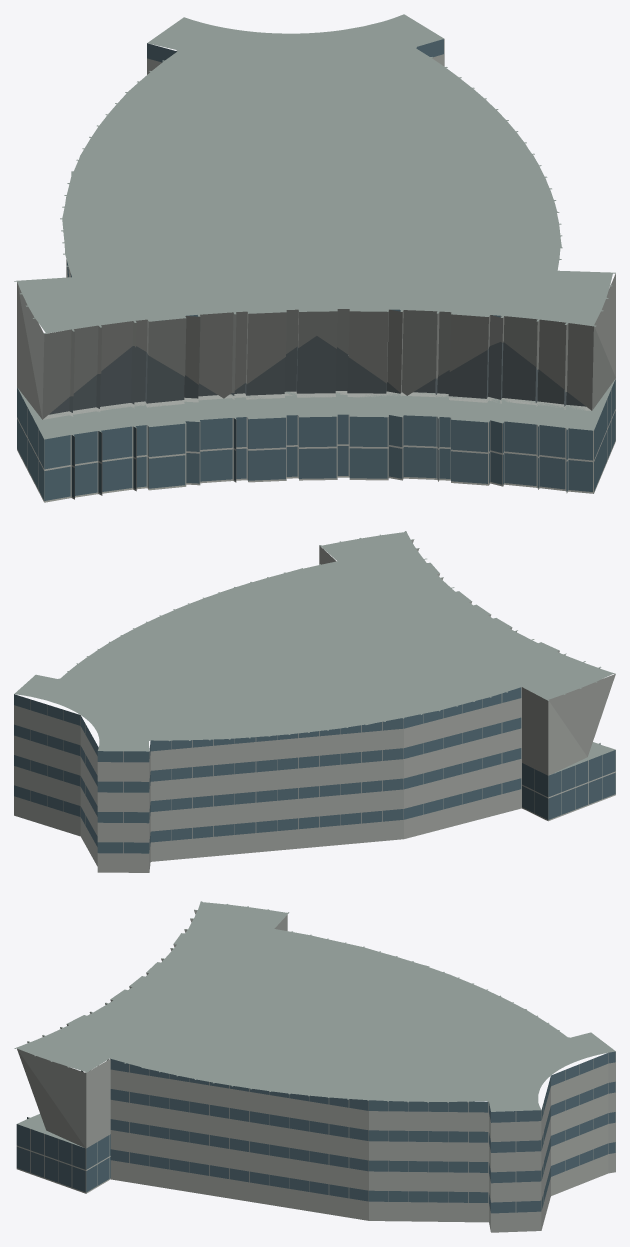
Rendered from palais-des-congres-paris-far.glb.
3 views of the same model, one above another, from view 1: azimuth 30°, elevation 25°; view 2: azimuth 150°, elevation 25°; view 3: azimuth 270°, elevation 25° (orthographic). The views are drawn at different scales.
Parts seen in each view (by area): view 1: palais-des-congres-paris-0-roof, palais-des-congres-paris-0-panel, palais-des-congres-paris-0-glass, palais-des-congres-paris-0-cut, palais-des-congres-paris-0-frame; view 2: palais-des-congres-paris-0-roof, palais-des-congres-paris-0-panel, palais-des-congres-paris-0-glass, palais-des-congres-paris-0-frame; view 3: palais-des-congres-paris-0-roof, palais-des-congres-paris-0-panel, palais-des-congres-paris-0-glass, palais-des-congres-paris-0-frame.
Boxes of the visible parts, <box> form: palais-des-congres-paris-0-roof: <box>14,14,615,439</box>; palais-des-congres-paris-0-panel: <box>17,39,615,419</box>; palais-des-congres-paris-0-glass: <box>17,39,615,500</box>; palais-des-congres-paris-0-cut: <box>49,336,585,414</box>; palais-des-congres-paris-0-frame: <box>17,378,615,502</box>; palais-des-congres-paris-0-roof: <box>14,531,615,774</box>; palais-des-congres-paris-0-panel: <box>14,540,615,872</box>; palais-des-congres-paris-0-glass: <box>14,687,615,853</box>; palais-des-congres-paris-0-frame: <box>522,743,615,821</box>; palais-des-congres-paris-0-roof: <box>14,901,615,1147</box>; palais-des-congres-paris-0-panel: <box>17,910,615,1232</box>; palais-des-congres-paris-0-glass: <box>16,1051,615,1213</box>; palais-des-congres-paris-0-frame: <box>16,1129,110,1193</box>.
Size of the model in its own units: 150 by 40 by 181.
